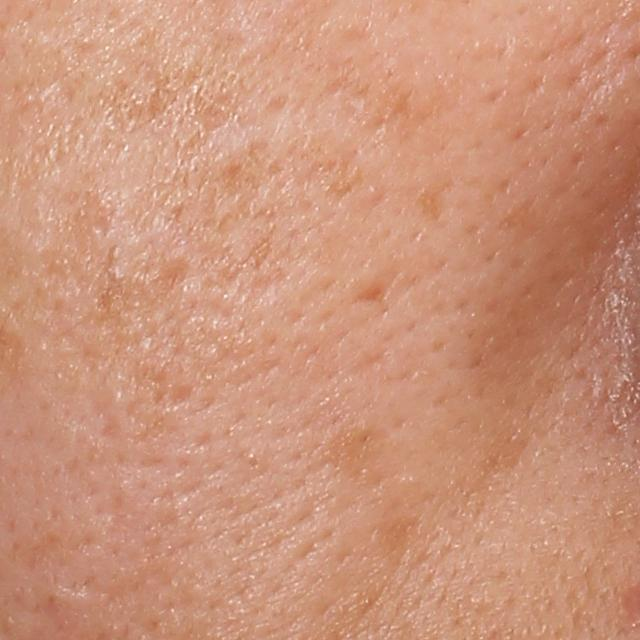atrophic_scar: (58, 549, 106, 596), (155, 254, 190, 296), (357, 277, 393, 307), (167, 384, 193, 412)
